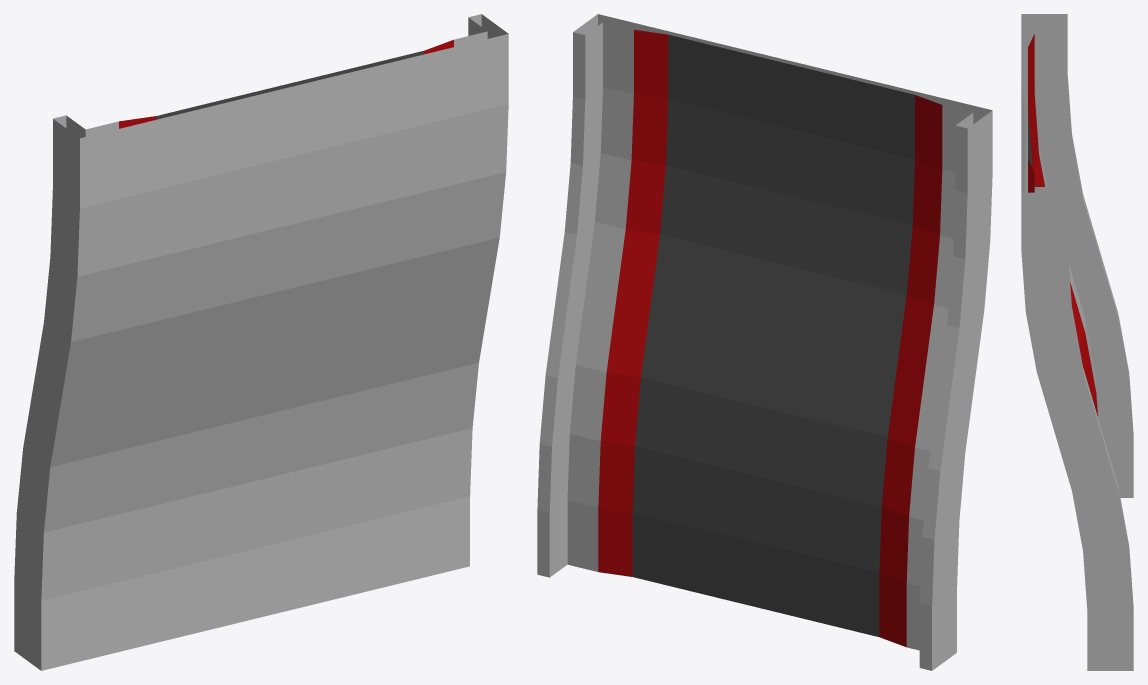
File: Roller_Pitch2.fbx
3 renders of one model, left to right at view 1: azimuth 30°, elevation 25°; view 2: azimuth 150°, elevation 25°; view 3: azimuth 270°, elevation 25°, orthographic. The views are drawn at different scales.
Parts seen in each view (by area): view 1: Roller_Pitch2; view 2: Roller_Pitch2; view 3: Roller_Pitch2.
Boxes of the visible parts, <box> form: Roller_Pitch2: <box>14,14,508,670</box>; Roller_Pitch2: <box>537,14,992,670</box>; Roller_Pitch2: <box>1021,14,1133,670</box>.
Size of the model in its own units: 1280 by 1600 by 340.
